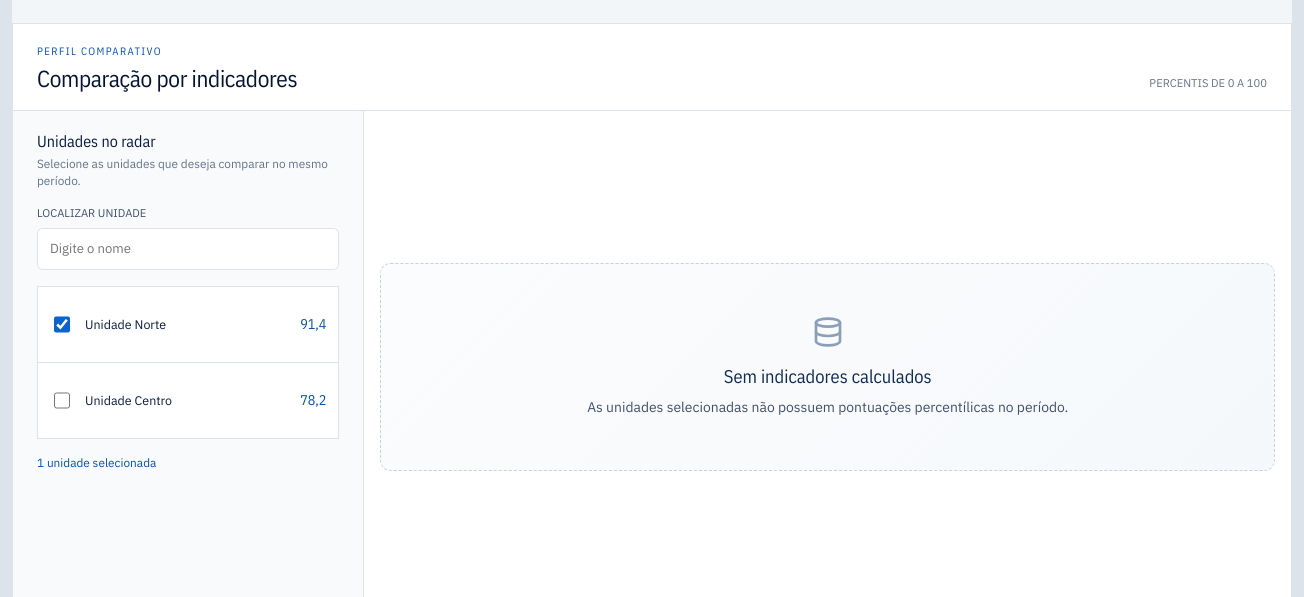
Test: Dashboard analítico macro para micro › permite escolher unidades e compara seus indicadores no radar
The width and height of the screenshot is (1304, 597).
(page scrolled)
Expected: the heading "Comparação por indicadores" is shown, [37,66,297,90]
Expected: the checkbox labelled "Unidade Norte 91,4" is checked, [54,302,70,347]
Click the checkbox labelled "Unidade Centro 78,2" at (62, 400), box [54,378,70,423]
(page scrolled)
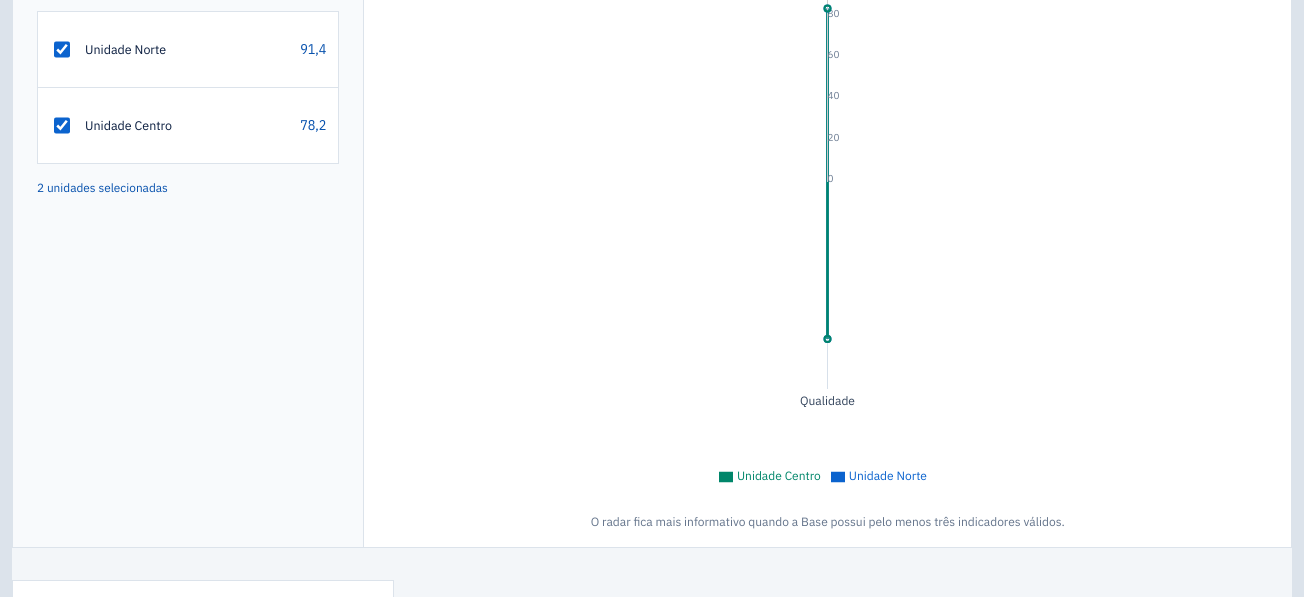
Expected: the text "Qualidade" is shown, [800,394,856,408]
Expected: the text "2 unidades selecionadas" is shown, [37,180,168,195]
